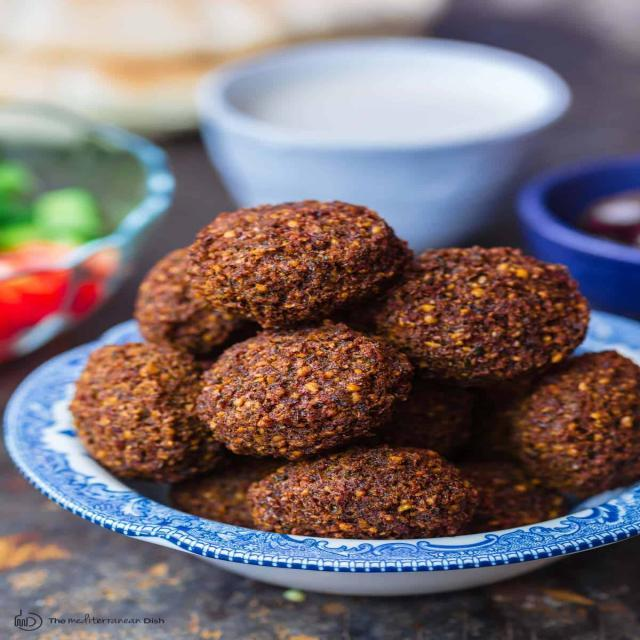flafel: (191, 325, 405, 460), (388, 256, 594, 387), (210, 201, 399, 322), (249, 451, 471, 543), (515, 348, 639, 498), (75, 343, 199, 487)
